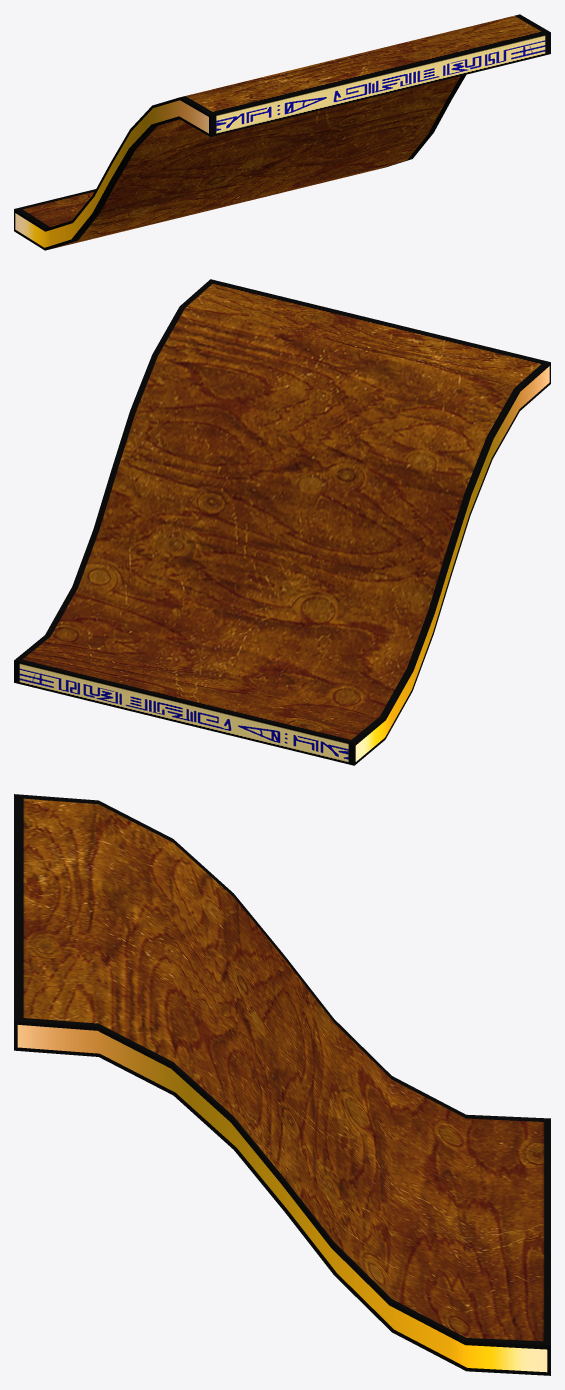
The model's file is jungle_slope.gltf.
3 renders of one model, top to bottom at view 1: azimuth 30°, elevation 25°; view 2: azimuth 150°, elevation 25°; view 3: azimuth 270°, elevation 25°, orthographic. The views are drawn at different scales.
Visible parts, largest first — view 1: jungle_slope_glb; view 2: jungle_slope_glb; view 3: jungle_slope_glb.
Boxes of the visible parts, x1,y1,x2,y2 form: jungle_slope_glb: [14, 14, 550, 250]; jungle_slope_glb: [14, 279, 550, 765]; jungle_slope_glb: [14, 794, 550, 1375].
Size of what is drawn, in the model's own units: 4 by 2.92 by 4.
Materials: 1 (1 with a texture image).
